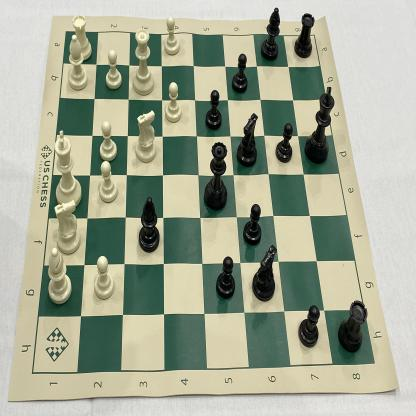black-bishop: (137, 196, 161, 256), (260, 5, 282, 62)
black-king: (304, 82, 335, 167)
black-knight: (252, 242, 278, 304), (237, 111, 260, 168)
black-pawn: (297, 301, 321, 350), (215, 254, 237, 300), (203, 88, 225, 132), (242, 202, 263, 246), (274, 122, 295, 166), (229, 51, 250, 94)
black-queen: (203, 139, 228, 213)
black-rook: (337, 297, 369, 353), (294, 10, 316, 61)
white-bishop: (45, 245, 74, 305), (64, 34, 89, 92)
white-king: (52, 127, 83, 209)
white-knight: (52, 199, 83, 255), (133, 110, 158, 165)
white-pawn: (95, 160, 121, 205), (93, 255, 115, 302), (102, 49, 124, 94), (97, 118, 118, 164), (164, 81, 185, 124), (162, 14, 182, 58)
white-queen: (130, 24, 156, 98)
white-rook: (71, 13, 93, 62)
